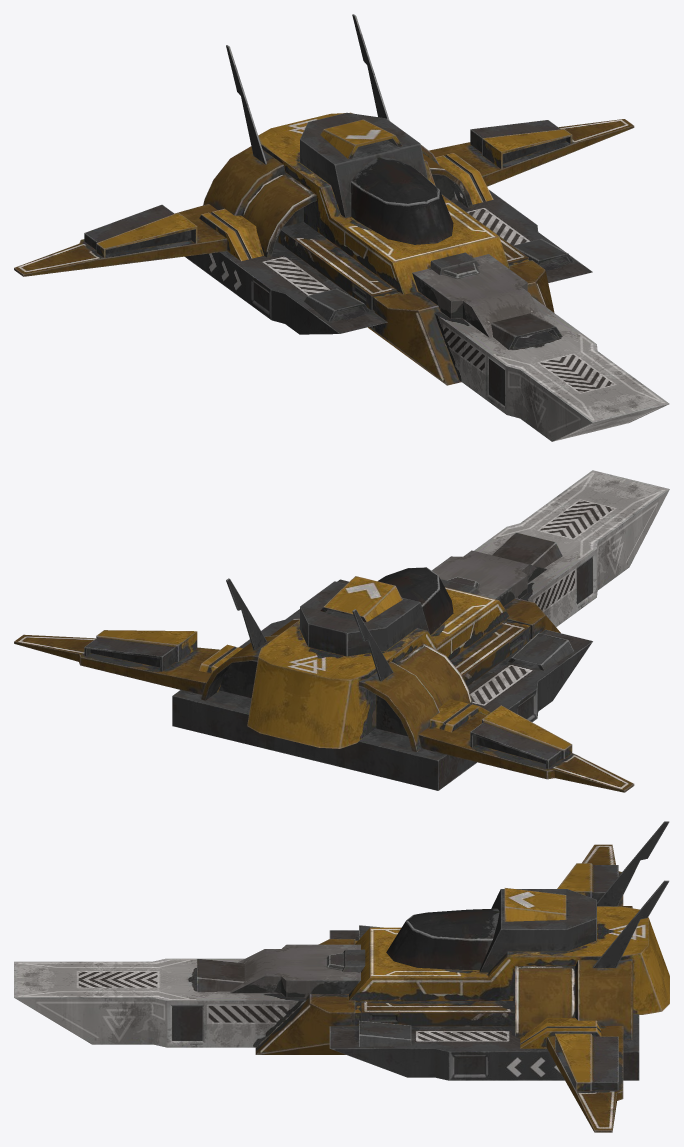
The model's file is Challenger.gltf.
3 views of the same model, one above another, from view 1: azimuth 30°, elevation 25°; view 2: azimuth 150°, elevation 25°; view 3: azimuth 270°, elevation 25° (orthographic). The views are drawn at different scales.
Visible parts, largest first — view 1: Challenger; view 2: Challenger; view 3: Challenger.
Boxes of the visible parts, box(x1,y1,x2,y2) form: Challenger: box(14, 14, 669, 441); Challenger: box(14, 470, 669, 792); Challenger: box(14, 821, 669, 1132).
Size of the model in its own units: 10.5 by 3.02 by 10.18.
1 material, 1 textured.
